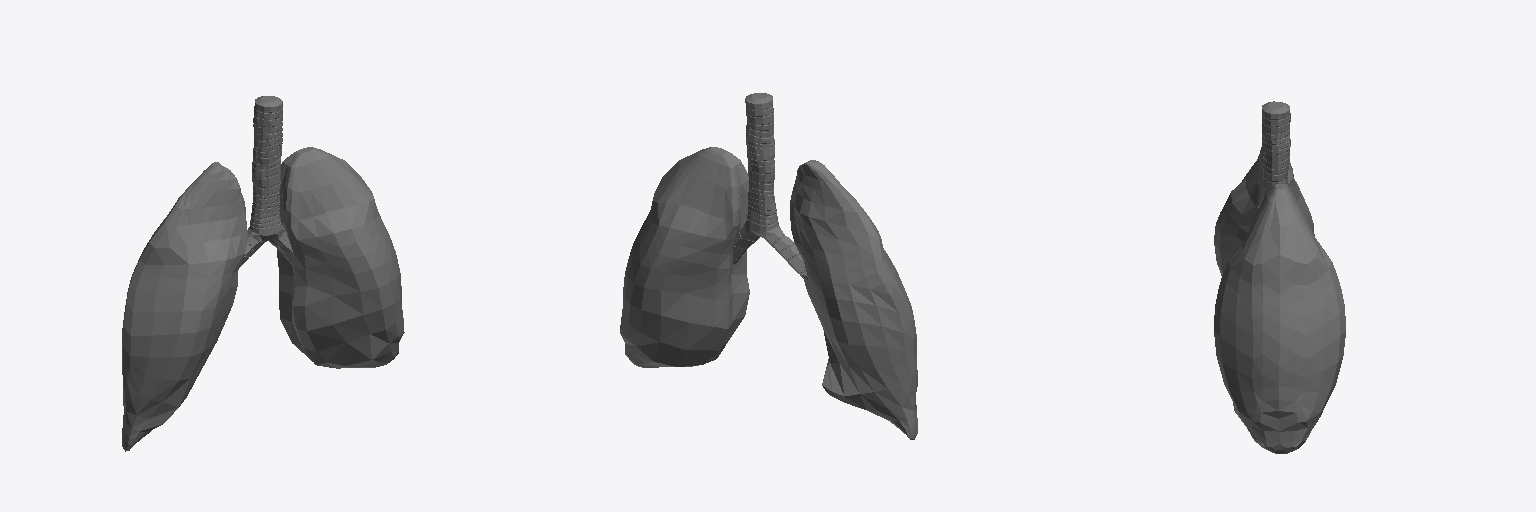
File: rokokedit.obj
The picture shows the model from 3 angles: view 1: azimuth 30°, elevation 25°; view 2: azimuth 150°, elevation 25°; view 3: azimuth 270°, elevation 25°; orthographic projection.
Parts seen in each view (by area): view 1: Object008_Mesh; view 2: Object008_Mesh; view 3: Object008_Mesh.
Boxes of the visible parts, x1,y1,x2,y2 form: Object008_Mesh: [122, 96, 404, 451]; Object008_Mesh: [620, 93, 917, 439]; Object008_Mesh: [1214, 101, 1345, 453].
Size of the model in its own units: 4.41 by 4.7 by 1.81.